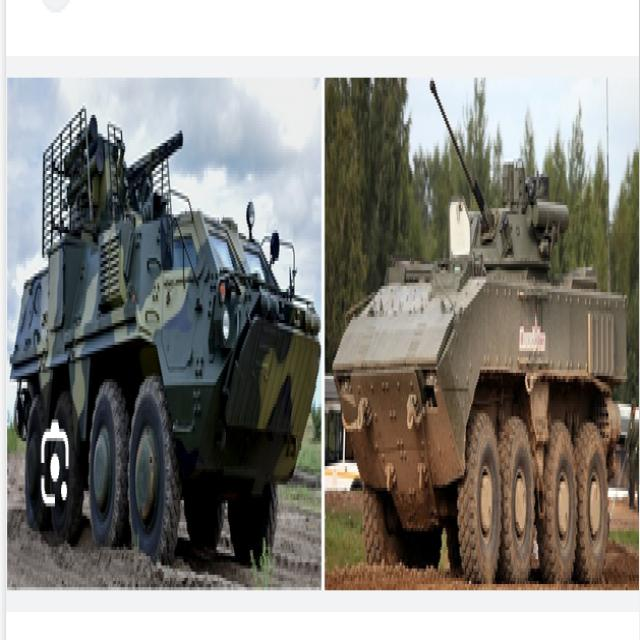MIL_APC: (14, 112, 327, 596), (334, 169, 637, 612)
